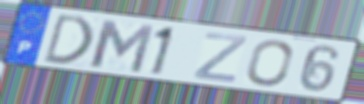1: (149, 26, 177, 77)
6: (298, 43, 342, 94)
D: (40, 12, 96, 66)
M: (88, 18, 157, 75)
O: (244, 38, 295, 88)
Z: (191, 31, 250, 85)
